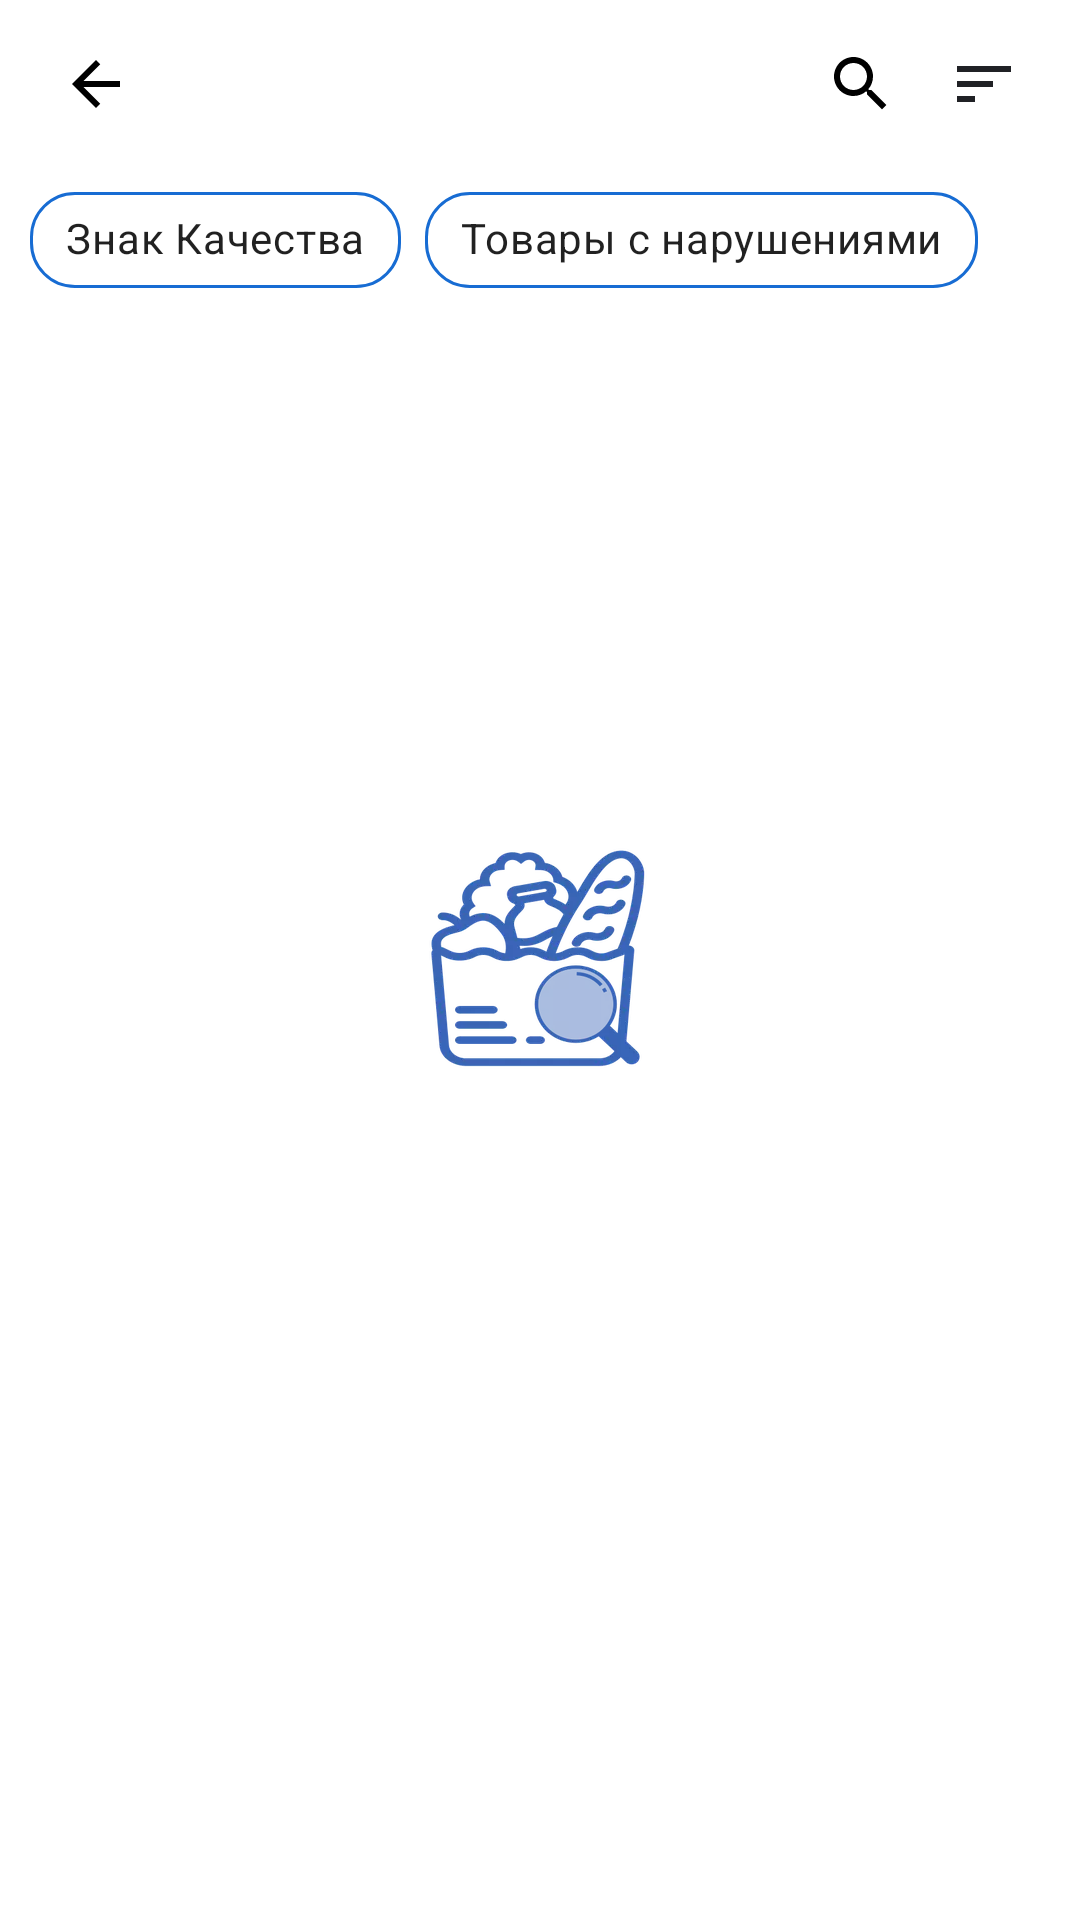

Screen size 1080 × 1920. Icon name, then its center in pixels as point (x, y):
arrow back: point (96, 84)
sort: point (984, 84)
